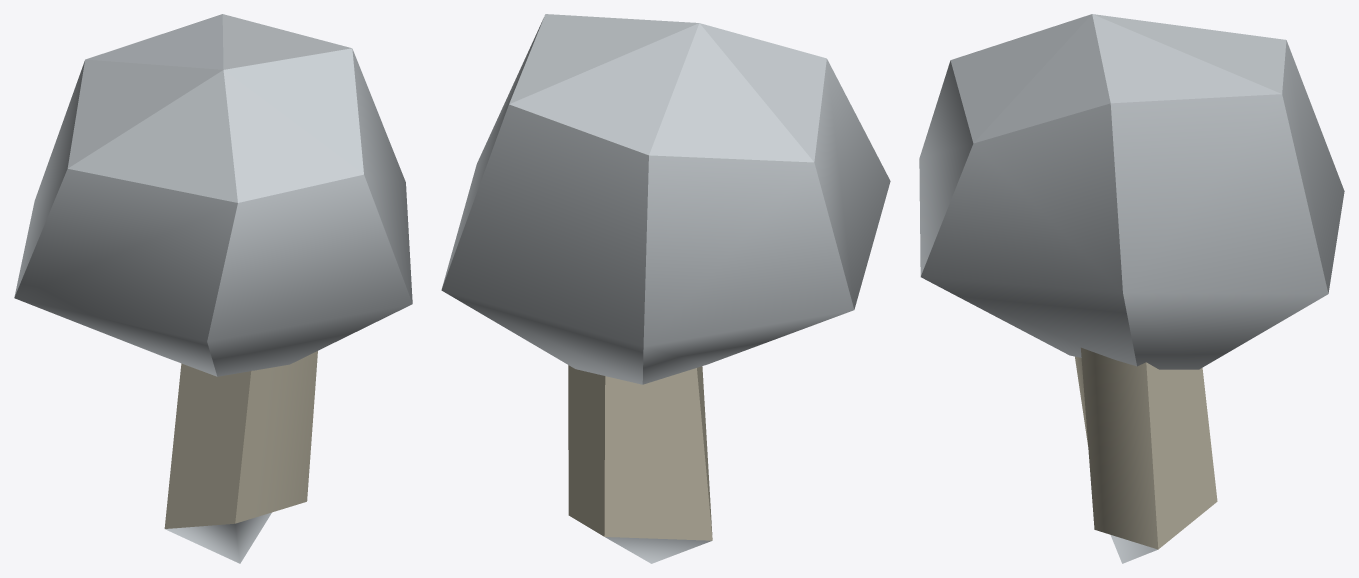
Rendered from Mushroom_3.fbx.
3 views of the same model, side by side, from view 1: azimuth 30°, elevation 25°; view 2: azimuth 150°, elevation 25°; view 3: azimuth 270°, elevation 25° (orthographic). The views are drawn at different scales.
Parts seen in each view (by area): view 1: Muscroom_3; view 2: Muscroom_3; view 3: Muscroom_3.
Boxes of the visible parts, box(x1,y1,x2,y2) form: Muscroom_3: box(14, 14, 412, 563); Muscroom_3: box(441, 14, 890, 563); Muscroom_3: box(919, 14, 1344, 563).
Size of the model in its own units: 0.0249 by 0.0324 by 0.0234.
